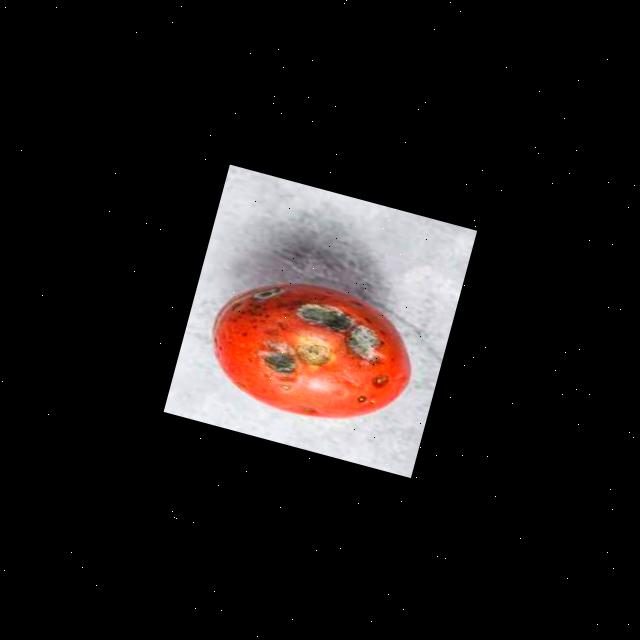tomato: (191, 256, 432, 447)
